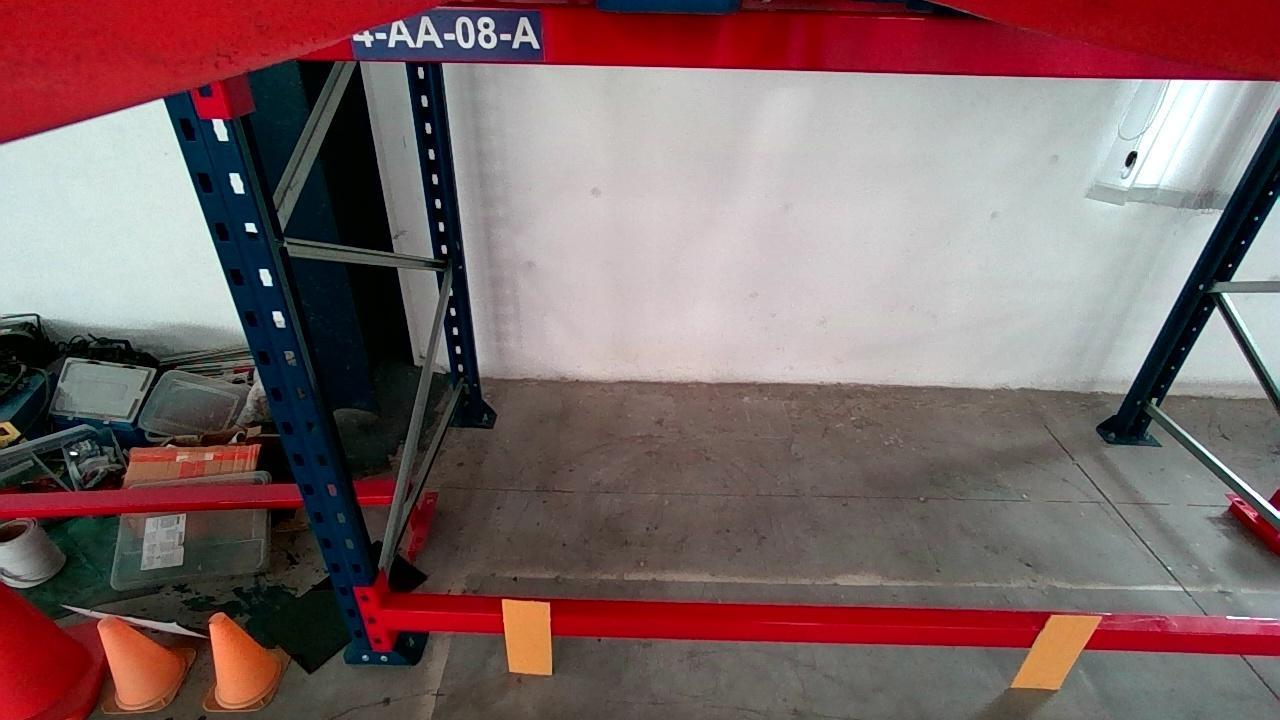h_rack: (293, 6, 1269, 80), (385, 606, 1280, 654)
orange_strip: (1012, 614, 1101, 692), (502, 599, 551, 677)
